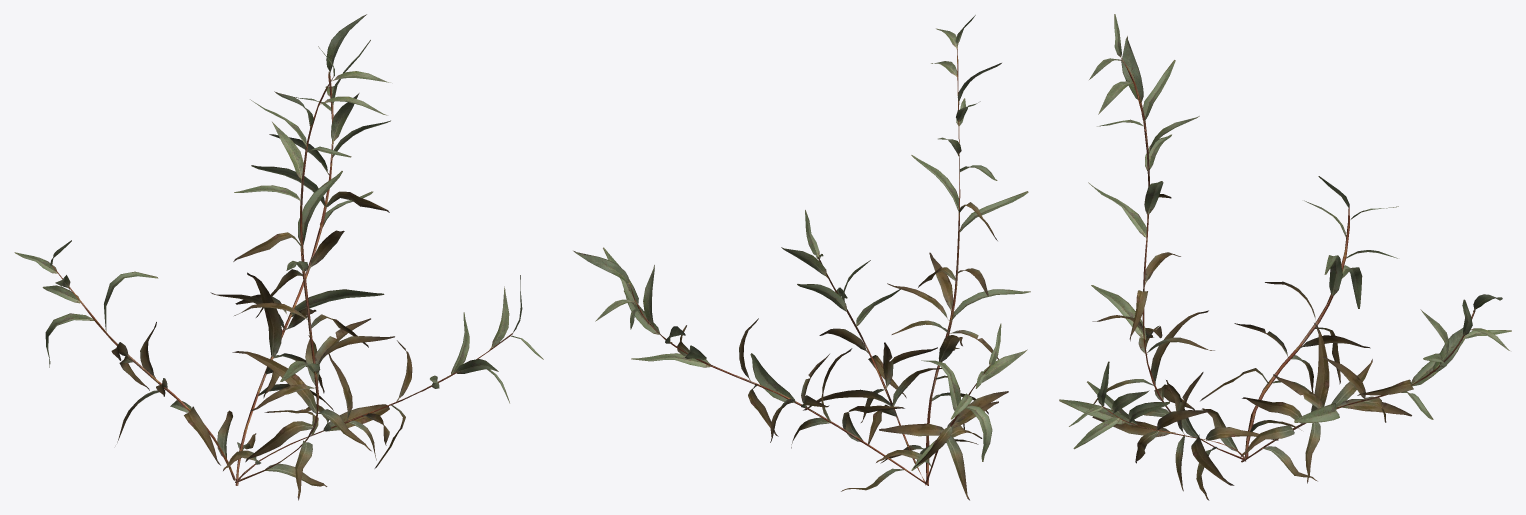
Rendered from shrub_02_d.glb.
The picture shows the model from 3 angles, left to right: view 1: azimuth 30°, elevation 25°; view 2: azimuth 150°, elevation 25°; view 3: azimuth 270°, elevation 25°; orthographic projection. The views are drawn at different scales.
Parts seen in each view (by area): view 1: shrub_02_d; view 2: shrub_02_d; view 3: shrub_02_d.
Boxes of the visible parts, box(x1,y1,x2,y2) form: shrub_02_d: box(14, 14, 543, 500); shrub_02_d: box(573, 15, 1030, 500); shrub_02_d: box(1059, 14, 1511, 500).
Size of the model in its own units: 1.08 by 1.23 by 1.1.
Materials: 1 (1 with a texture image).
